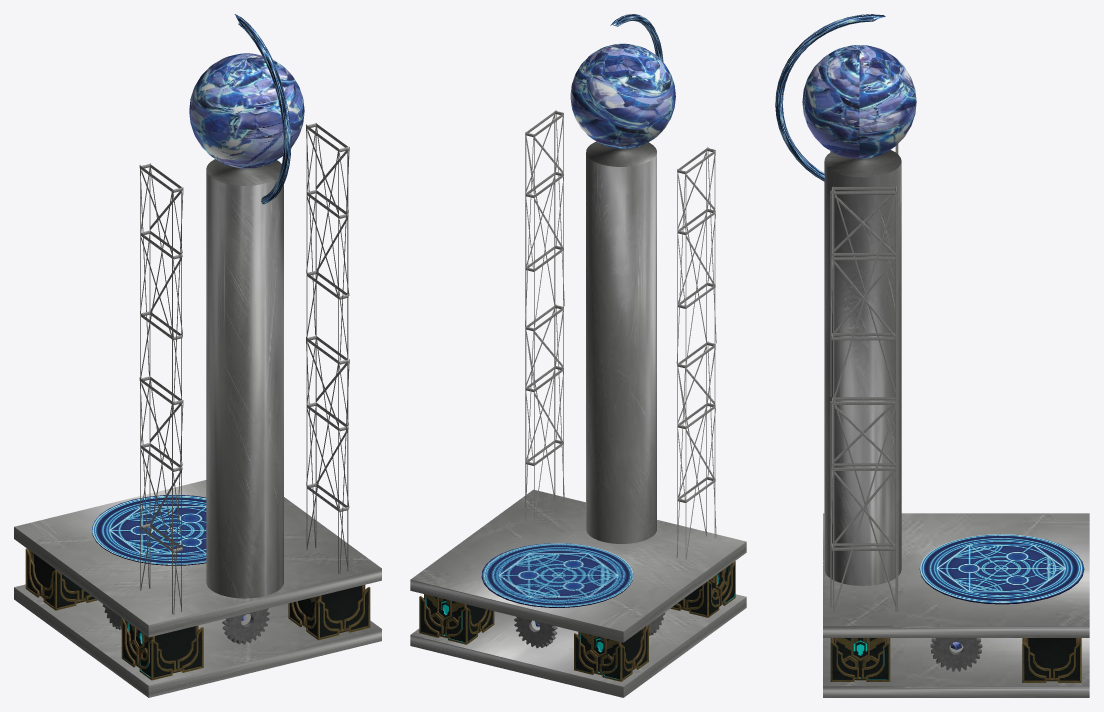
File: hextech.obj
3 views of the same model, side by side, from view 1: azimuth 30°, elevation 25°; view 2: azimuth 150°, elevation 25°; view 3: azimuth 270°, elevation 25° (orthographic). The views are drawn at different scales.
Visible parts, largest first — view 1: Cylinder, Cube, Cube.001, Sphere.001, Object_2, Object_2.001, Cylinder.001, low_lambert2_0.001, low_lambert2_0.003, low_lambert2_0.002, Torus.002, Cap_2_Mat.2_0; view 2: Cylinder, Cube, Cube.001, Sphere.001, Cylinder.001, Object_2, Object_2.001, low_lambert2_0.002, low_lambert2_0, low_lambert2_0.001, Cap_1_Mat.2_0.001, Torus.002; view 3: Cylinder, Cube, Sphere.001, Object_2, Cube.001, Cylinder.001, low_lambert2_0, low_lambert2_0.003, Torus.002, Cap_2_Mat.2_0.003.
Part boxes in pixels (<box>): Cylinder: <box>206,159,283,598</box>; Cube: <box>14,480,381,637</box>; Cube.001: <box>14,584,381,697</box>; Sphere.001: <box>189,53,304,168</box>; Object_2: <box>306,123,349,574</box>; Object_2.001: <box>139,163,183,614</box>; Cylinder.001: <box>92,495,206,565</box>; low_lambert2_0.001: <box>121,618,203,680</box>; low_lambert2_0.003: <box>288,585,370,640</box>; low_lambert2_0.002: <box>25,548,97,610</box>; Torus.002: <box>234,14,291,204</box>; Cap_2_Mat.2_0: <box>225,608,269,644</box>; Cylinder: <box>586,141,656,543</box>; Cube: <box>410,489,746,642</box>; Cube.001: <box>410,594,746,697</box>; Sphere.001: <box>570,43,675,148</box>; Cylinder.001: <box>481,543,633,607</box>; Object_2: <box>525,110,564,522</box>; Object_2.001: <box>676,147,716,559</box>; low_lambert2_0.002: <box>574,625,648,681</box>; low_lambert2_0: <box>419,594,494,644</box>; low_lambert2_0.001: <box>670,561,735,617</box>; Cap_1_Mat.2_0.001: <box>514,616,554,648</box>; Torus.002: <box>610,14,663,62</box>; Cylinder: <box>824,150,901,585</box>; Cube: <box>823,513,1089,637</box>; Sphere.001: <box>802,45,916,158</box>; Object_2: <box>830,186,898,611</box>; Cube.001: <box>823,638,1089,697</box>; Cylinder.001: <box>919,534,1084,604</box>; low_lambert2_0: <box>1022,638,1081,682</box>; low_lambert2_0.003: <box>830,638,890,681</box>; Torus.002: <box>775,14,885,181</box>; Cap_2_Mat.2_0.003: <box>930,638,981,671</box>.
Bounding box in the file's own units: 2.8 × 7.27 × 3.3.
Materials: 7 (6 with a texture image).
